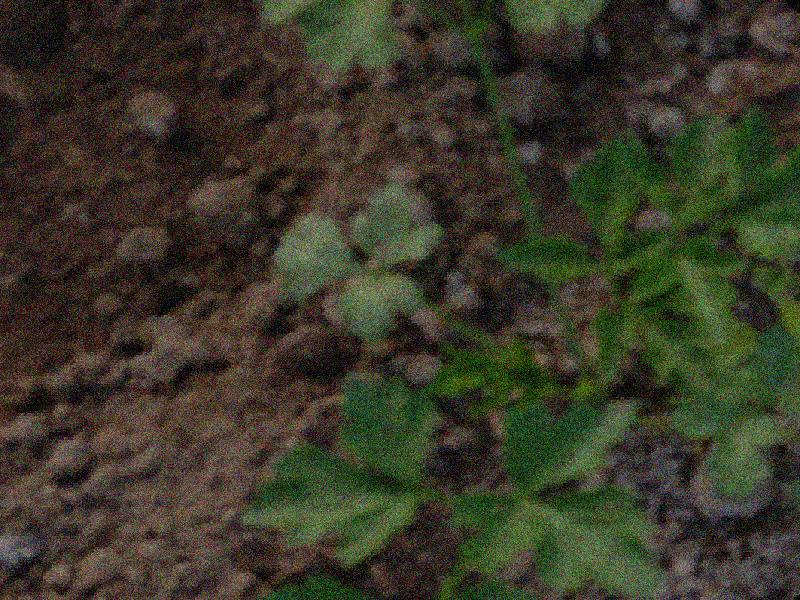radish: (52, 15, 800, 600)
